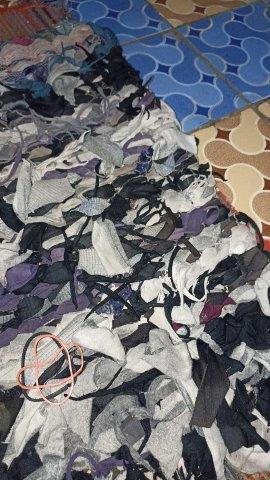karet: (16, 332, 84, 406)
